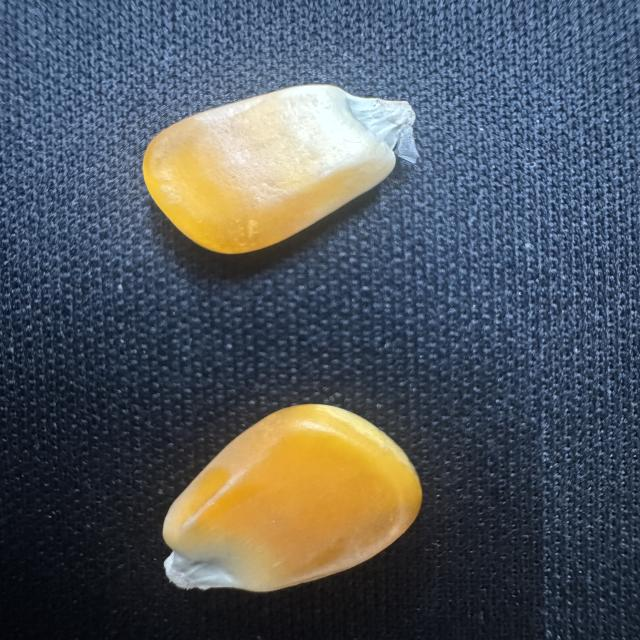Good-Seed: (155, 392, 431, 604), (128, 78, 436, 262)
